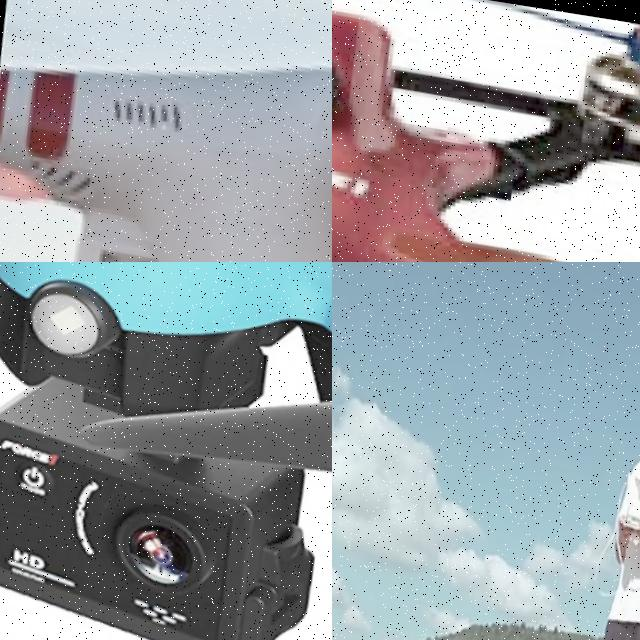0: (0, 0, 332, 262)
drone: (0, 262, 332, 640), (332, 0, 640, 262)
